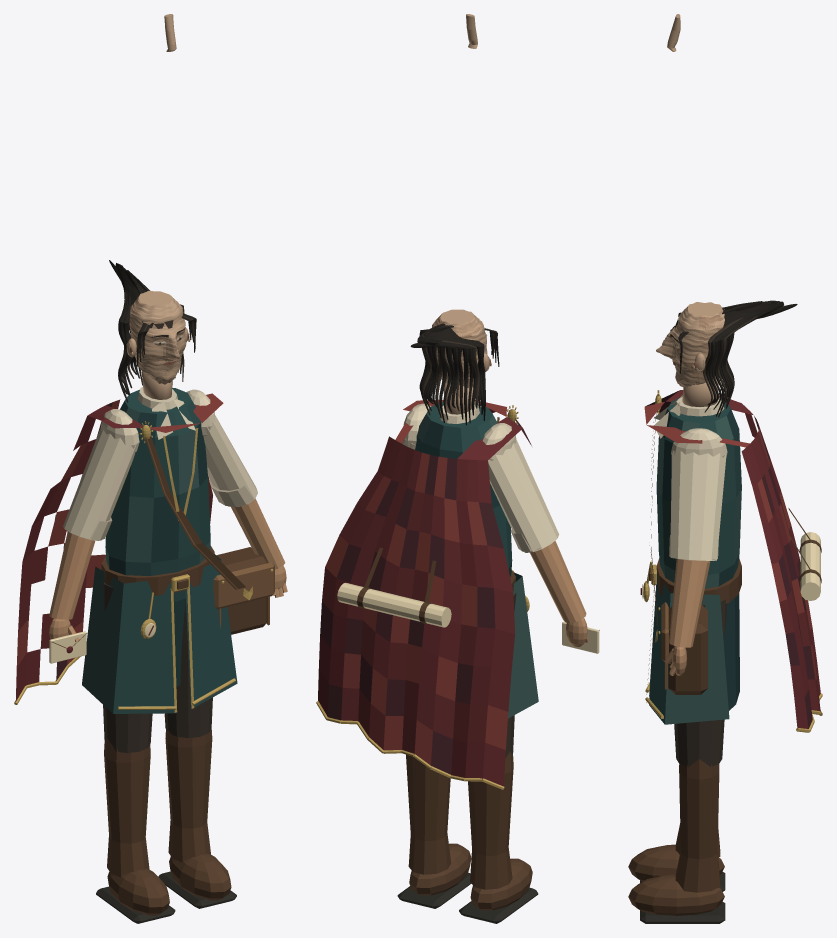
File: courier.glb
The picture shows the model from 3 angles, left to right: view 1: azimuth 30°, elevation 25°; view 2: azimuth 150°, elevation 25°; view 3: azimuth 270°, elevation 25°; orthographic projection.
Parts seen in each view (by area): view 1: Waistcoat, Split_coat_R, Cloak_folds, Boot_shaft_R, Boot_shaft_L, Split_coat_L, Linen_sleeve_R, Face, Forearm_R, Trouser_thigh_L, Linen_sleeve_L, Boot_toe_L (+13 smaller); view 2: Cloak_folds, Boot_shaft_R, Boot_shaft_L, Linen_sleeve_R, Waistcoat, Split_coat_R, Map_roll, Forearm_R, Boot_toe_L, Boot_toe_R, Face, Boot_sole_R (+2 smaller); view 3: Cloak_folds, Waistcoat, Linen_sleeve_L, Boot_shaft_L, Split_coat_L, Face, Boot_toe_L, Forearm_L, Trouser_thigh_L, Messenger_satchel, Back_coat, Boot_toe_R (+8 smaller).
Boxes of the visible parts, x1=… form: Waistcoat: x1=105, y1=388, x2=210, y2=601; Split_coat_R: x1=82, y1=566, x2=174, y2=713; Cloak_folds: x1=15, y1=393, x2=223, y2=701; Boot_shaft_R: x1=104, y1=738, x2=150, y2=877; Boot_shaft_L: x1=165, y1=726, x2=212, y2=862; Split_coat_L: x1=185, y1=554, x2=237, y2=709; Linen_sleeve_R: x1=63, y1=426, x2=137, y2=540; Face: x1=129, y1=290, x2=186, y2=384; Forearm_R: x1=49, y1=531, x2=95, y2=619; Trouser_thigh_L: x1=164, y1=599, x2=212, y2=738; Linen_sleeve_L: x1=203, y1=415, x2=257, y2=506; Boot_toe_L: x1=169, y1=853, x2=231, y2=900; Cloak_folds: x1=318, y1=399, x2=531, y2=786; Boot_shaft_R: x1=468, y1=751, x2=513, y2=889; Boot_shaft_L: x1=406, y1=754, x2=451, y2=874; Linen_sleeve_R: x1=488, y1=439, x2=559, y2=552; Waistcoat: x1=415, y1=402, x2=512, y2=577; Split_coat_R: x1=508, y1=572, x2=538, y2=718; Map_roll: x1=337, y1=582, x2=451, y2=627; Forearm_R: x1=530, y1=540, x2=586, y2=622; Boot_toe_L: x1=409, y1=843, x2=471, y2=895; Boot_toe_R: x1=470, y1=858, x2=532, y2=910; Face: x1=432, y1=309, x2=487, y2=387; Boot_sole_R: x1=459, y1=887, x2=538, y2=923; Cloak_folds: x1=644, y1=390, x2=820, y2=729; Waistcoat: x1=656, y1=396, x2=741, y2=588; Linen_sleeve_L: x1=670, y1=450, x2=726, y2=560; Boot_shaft_L: x1=675, y1=759, x2=720, y2=892; Split_coat_L: x1=649, y1=572, x2=729, y2=724; Face: x1=656, y1=302, x2=724, y2=387; Boot_toe_L: x1=628, y1=874, x2=724, y2=915; Forearm_L: x1=669, y1=559, x2=710, y2=647; Trouser_thigh_L: x1=674, y1=599, x2=727, y2=767; Messenger_satchel: x1=668, y1=604, x2=707, y2=694; Back_coat: x1=722, y1=593, x2=739, y2=710; Boot_toe_R: x1=628, y1=844, x2=724, y2=881.
Size of the model in its own units: 0.7395 by 2.59 by 0.5149.
